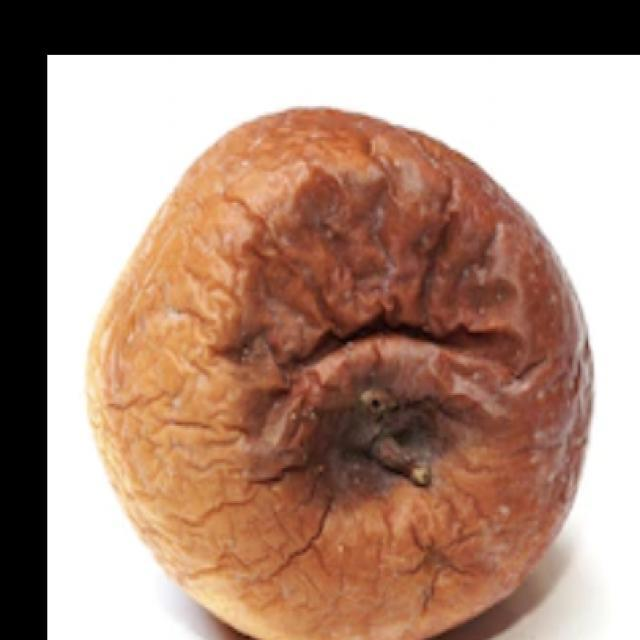Rotten: (85, 101, 595, 640)
